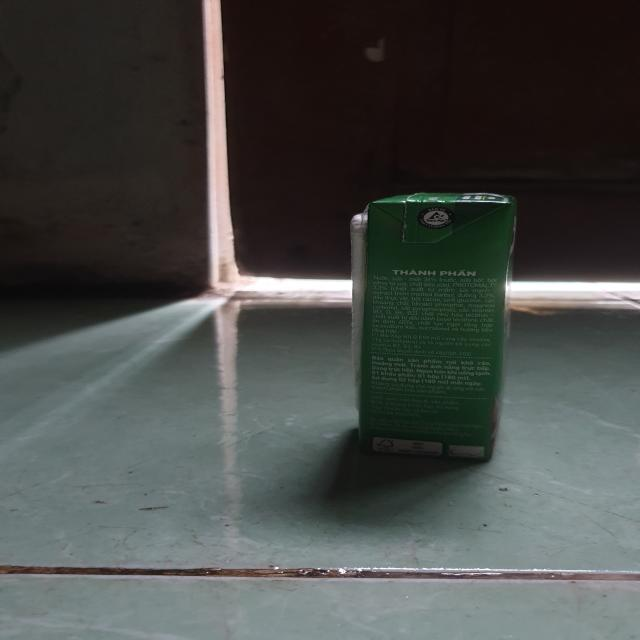Milo: (347, 189, 530, 469)
